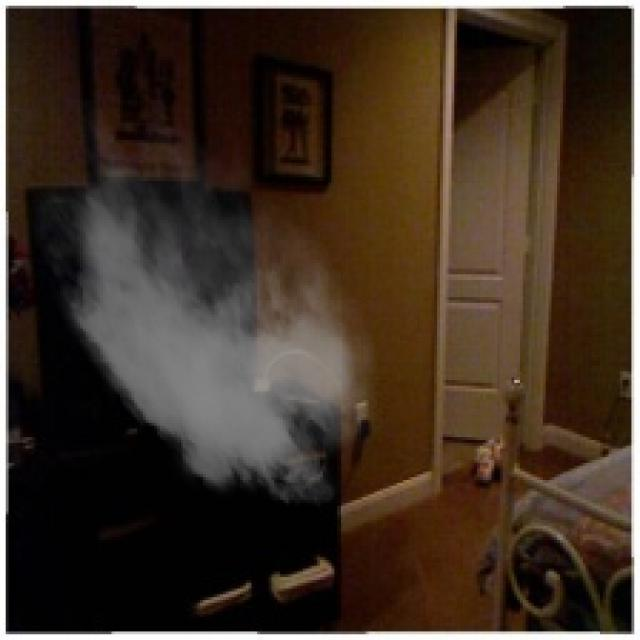smoke: (26, 100, 394, 520)
